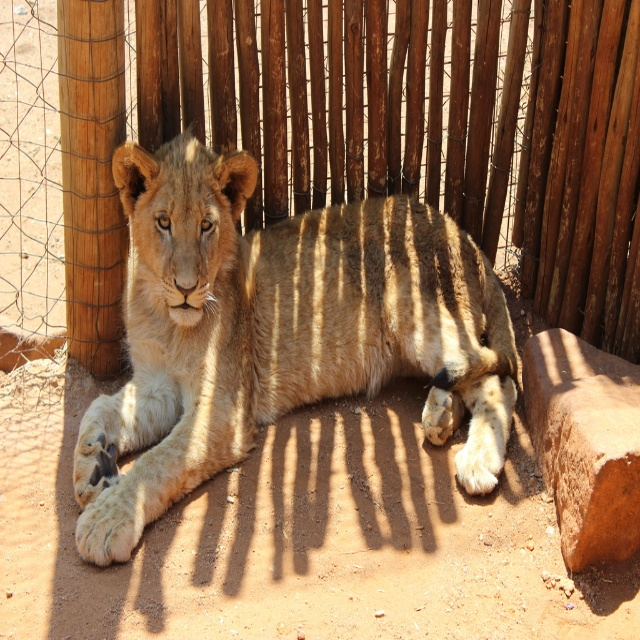Lion: (73, 118, 518, 569)
